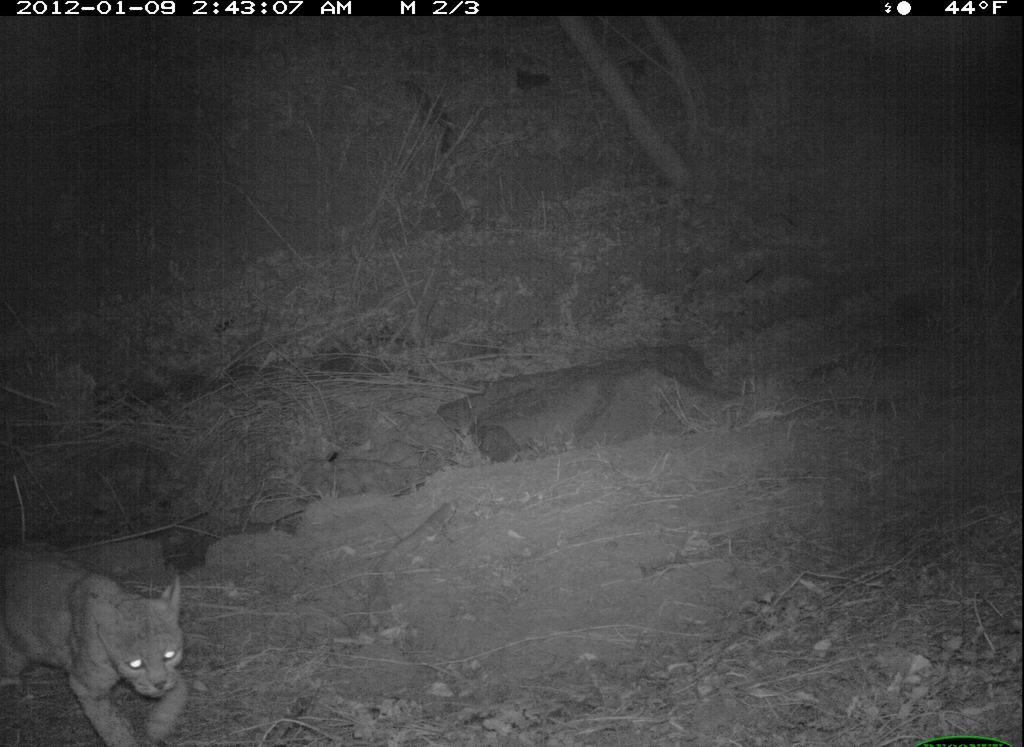bobcat: (9, 520, 207, 745)
